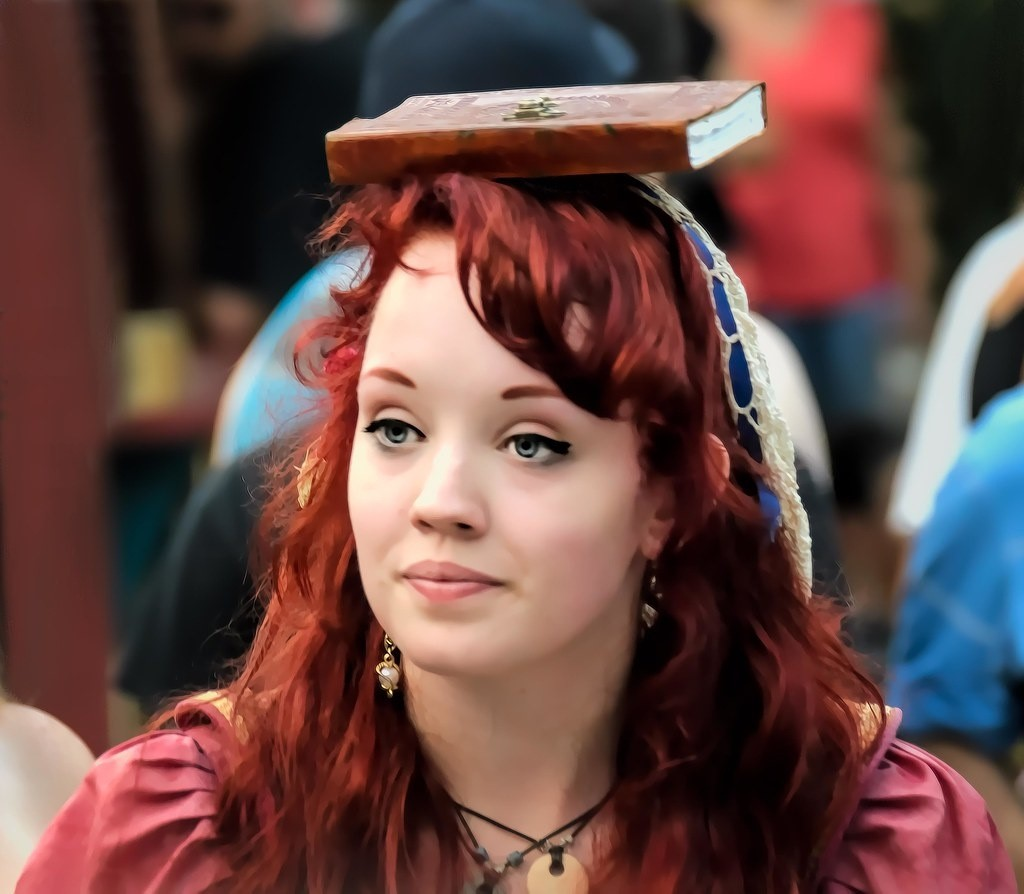face_no_mask: (343, 175, 736, 674)
